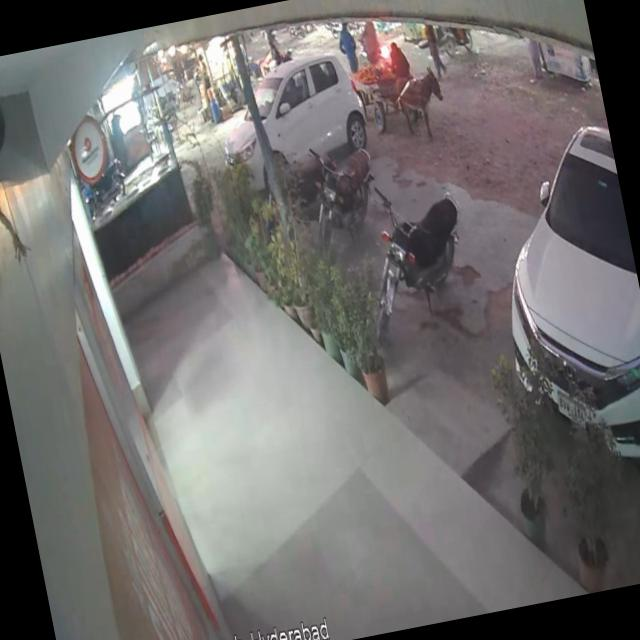Car: (462, 75, 640, 491), (185, 34, 378, 188)
Motorcycle: (346, 160, 491, 348), (306, 135, 390, 242)
